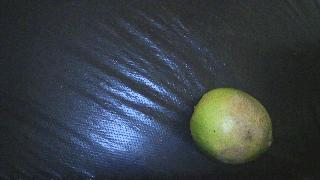DESECHO: (190, 88, 273, 164)
